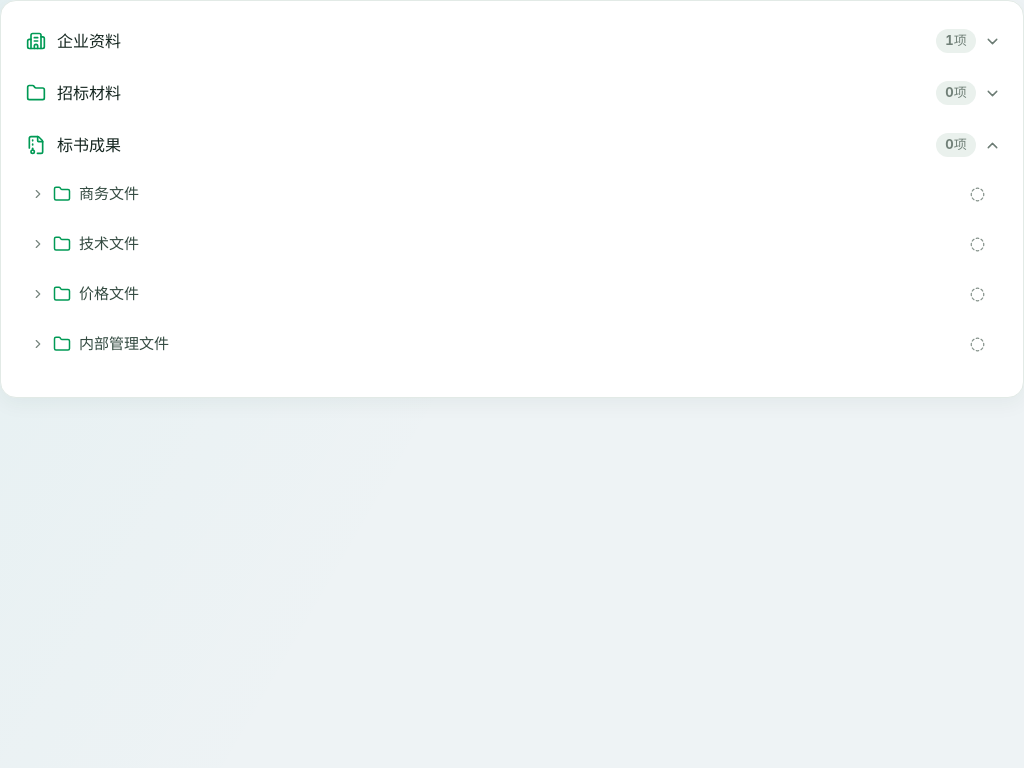
Test: ProjectResourceRail › shows enterprise categories and the upload slot only inside the expanded group
Click the button "企业资料 1项" at (89, 41), box [13,15,1011,67]
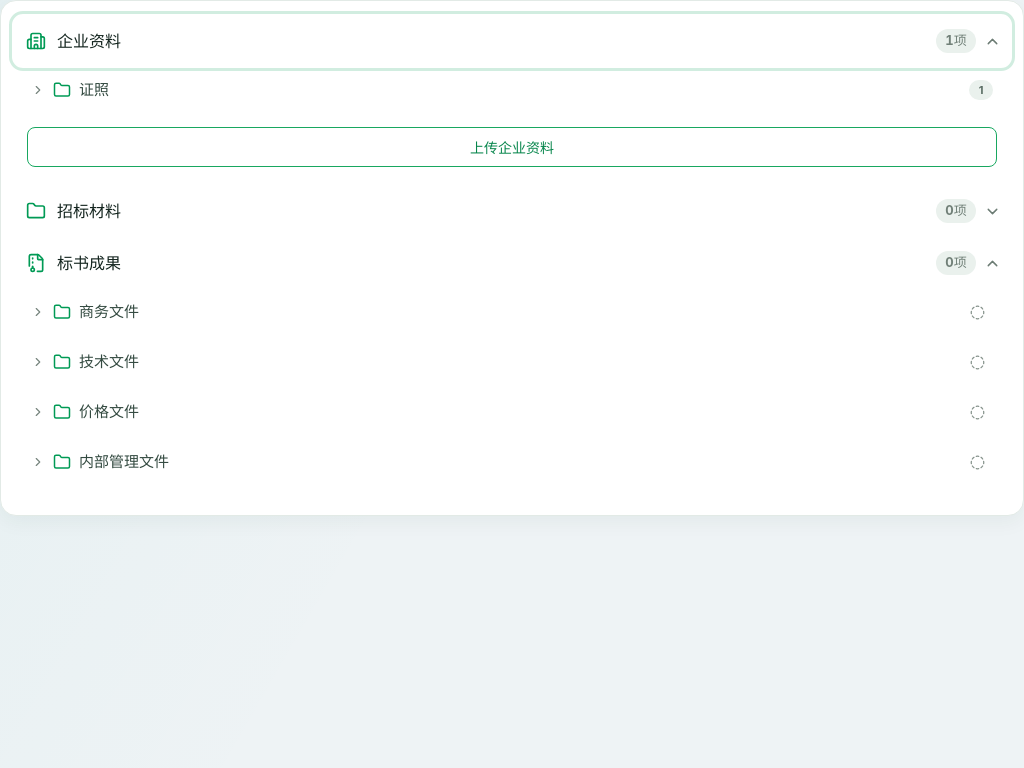
Now the button "上传企业资料" is shown, box [27,127,997,167]
Click the button "证照 1" at (94, 89), box [23,67,1001,113]
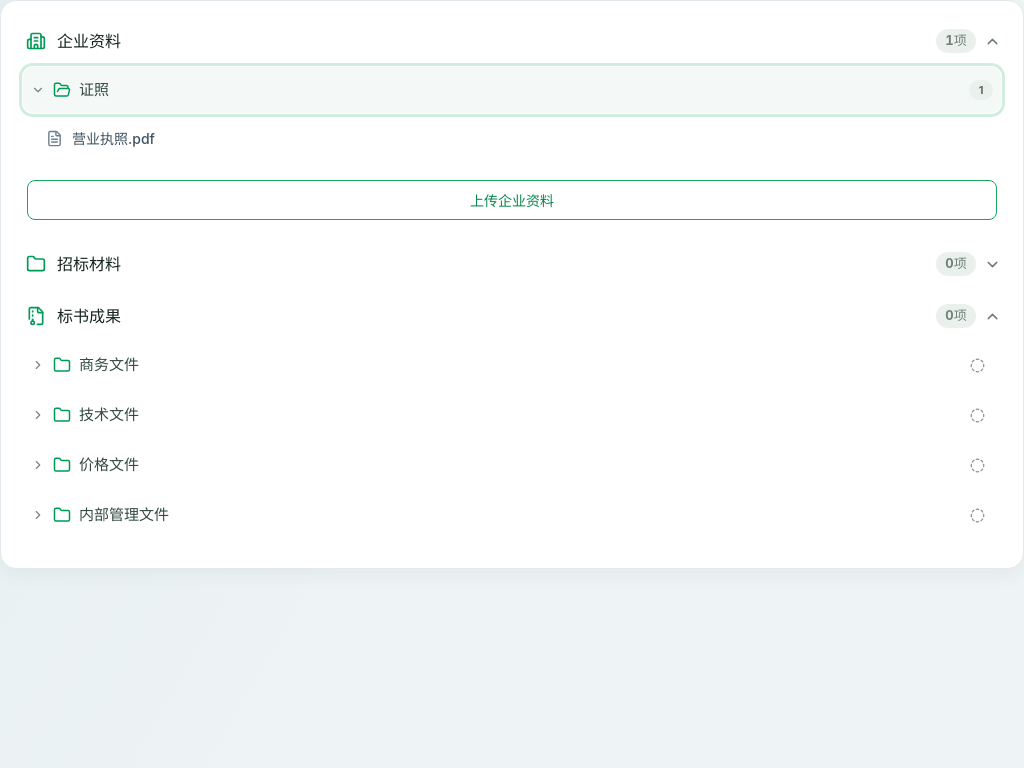
Now the text "营业执照.pdf" is shown, box [72,130,155,146]
Click the button "企业资料 1项" at (89, 41), box [13,15,1011,67]
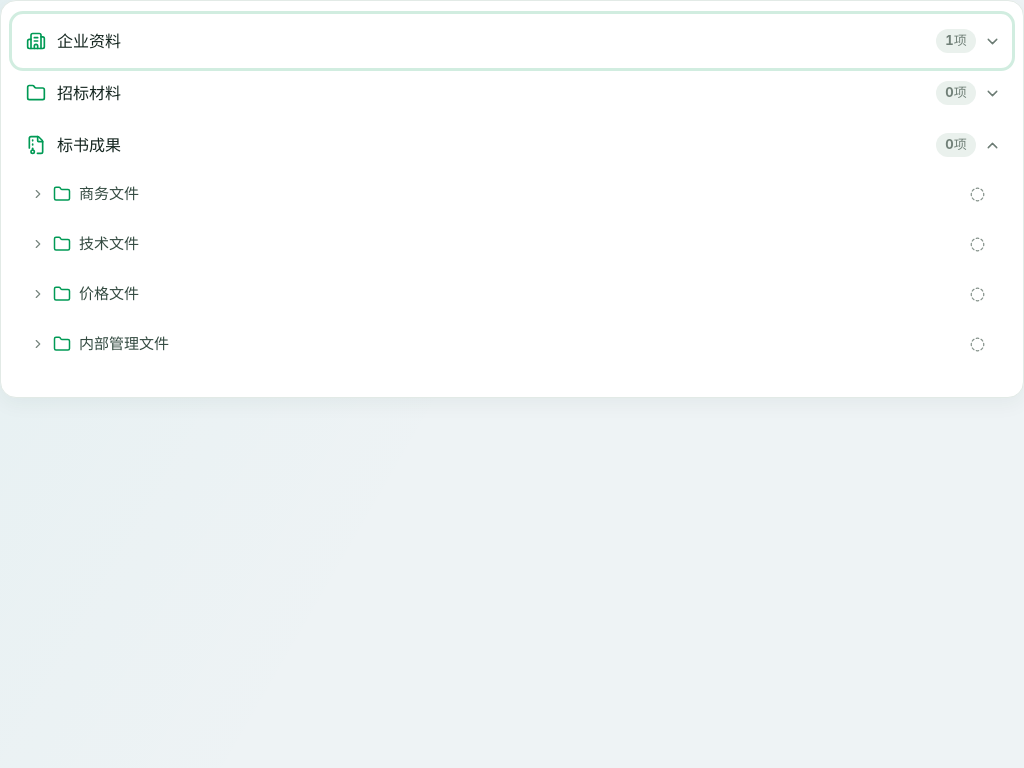
Now the button "上传企业资料" is gone
